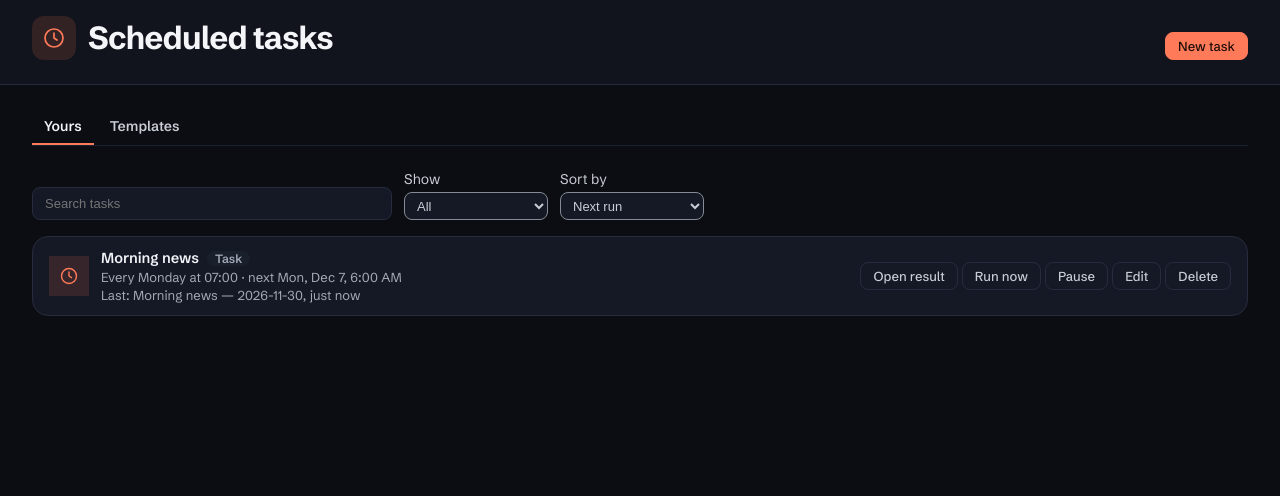
ScheduledPage › shows the templates on their own tab when tasks exist
Expected: the list named "Yours" is shown, [32, 236, 1248, 316]
Click the tab "Templates" at x=145, y=127, box [98, 109, 191, 145]
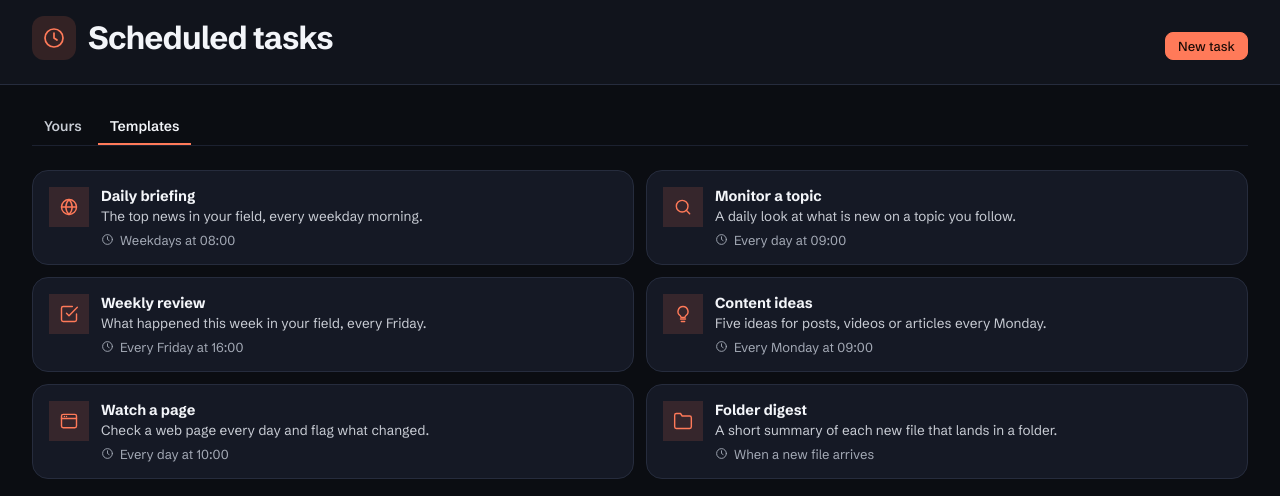
Expected: the list named "Templates" is shown, [32, 170, 1248, 479]
